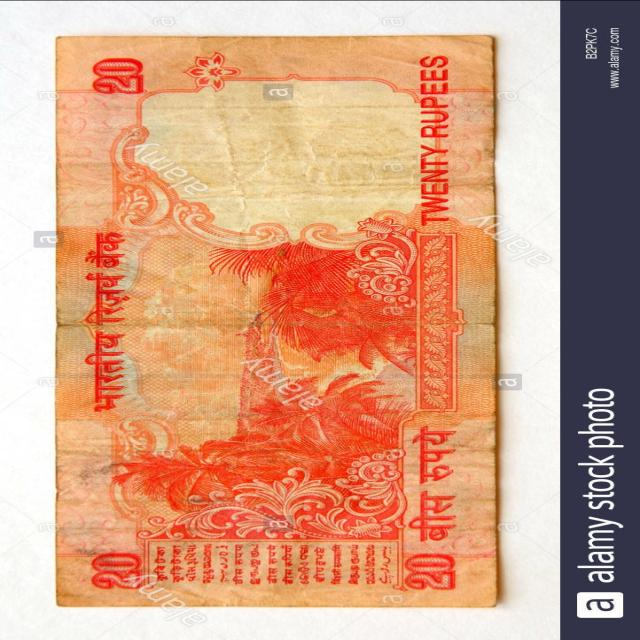20IndianRupees: (46, 36, 496, 604)
